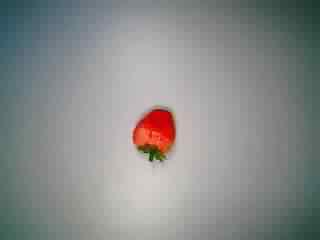strawberry: (118, 100, 184, 166)
